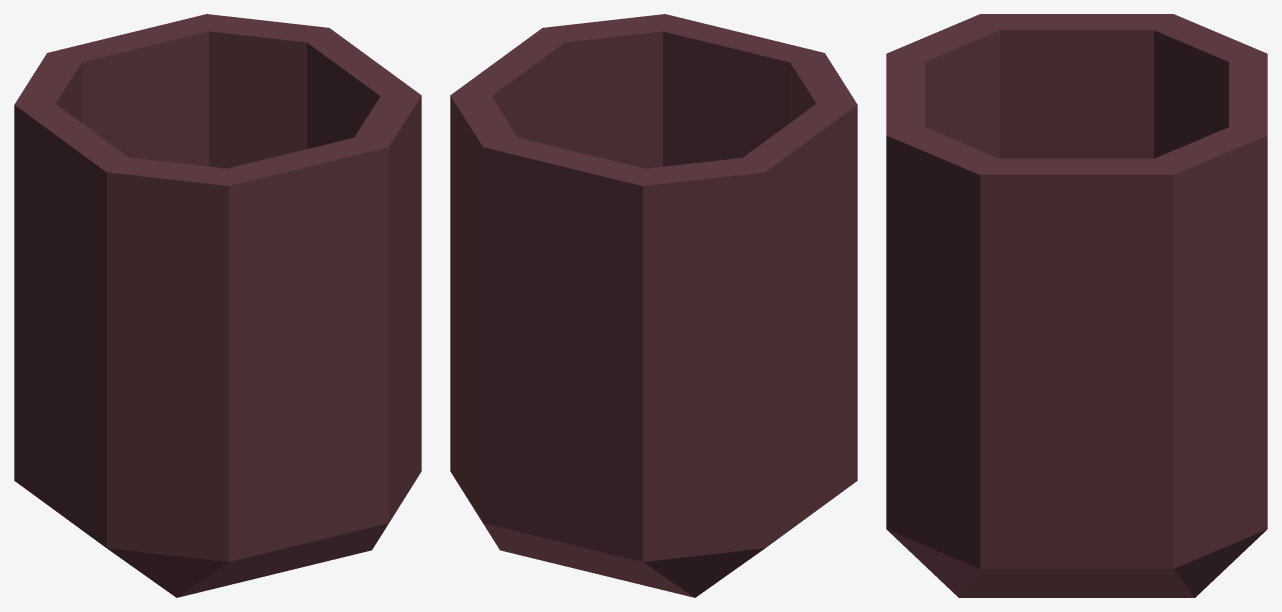
File: furniture-cup-bathroom.glb
3 views of the same model, side by side, from view 1: azimuth 30°, elevation 25°; view 2: azimuth 150°, elevation 25°; view 3: azimuth 270°, elevation 25° (orthographic). The views are drawn at different scales.
Parts seen in each view (by area): view 1: cup-bathroom; view 2: cup-bathroom; view 3: cup-bathroom.
Part boxes in pixels (<box>): cup-bathroom: <box>14,14,421,597</box>; cup-bathroom: <box>450,14,857,597</box>; cup-bathroom: <box>886,14,1267,597</box>.
Bounding box in the file's own units: 0.09 × 0.1181 × 0.09.
